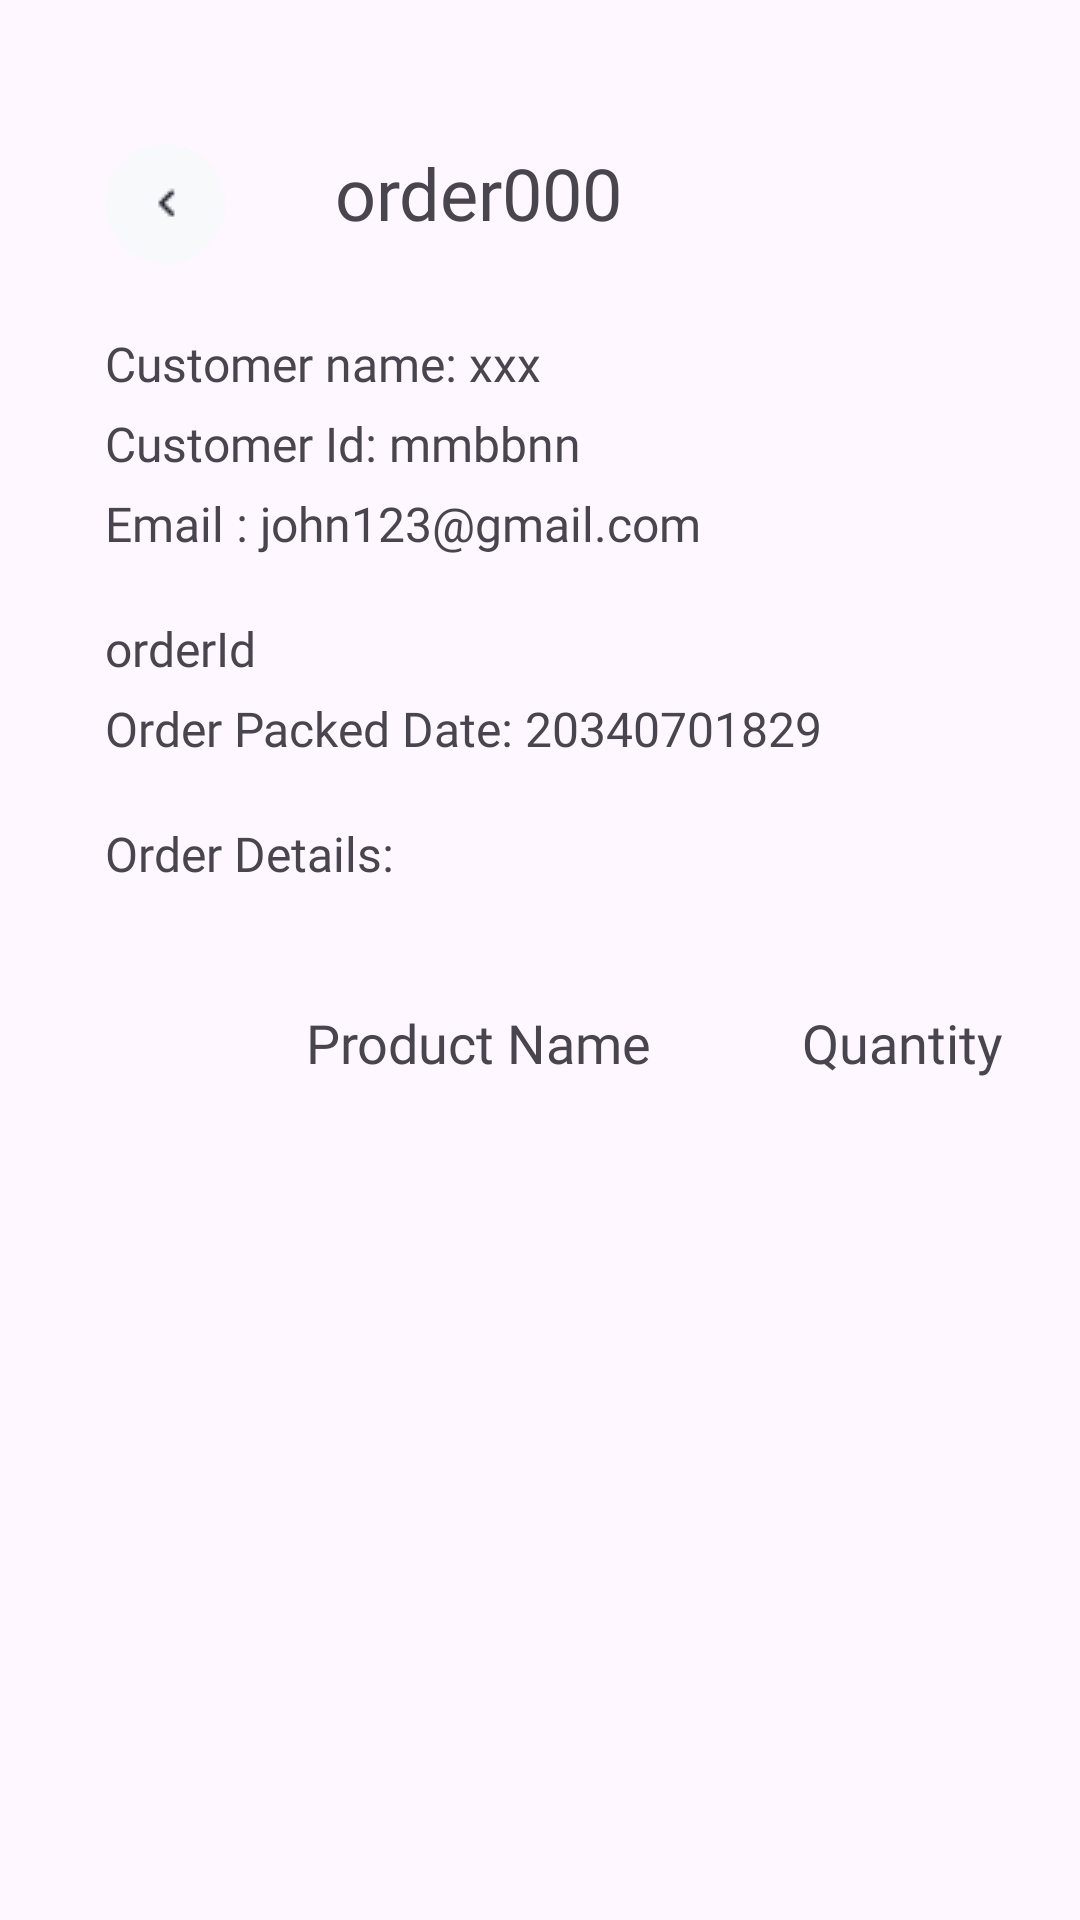

Icons on this 1080 x 1920 Android screen, each with the point to tap as (x,y):
back: (166,202)
